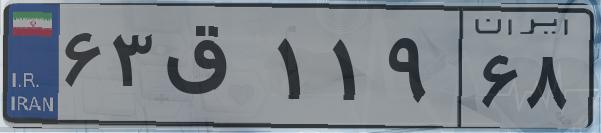1: (270, 28, 330, 110), (330, 28, 385, 110)
3: (110, 28, 158, 98)
6: (57, 26, 110, 100), (475, 38, 525, 113)
8: (525, 38, 570, 115)
9: (385, 28, 445, 110)
ق: (158, 20, 270, 120)
